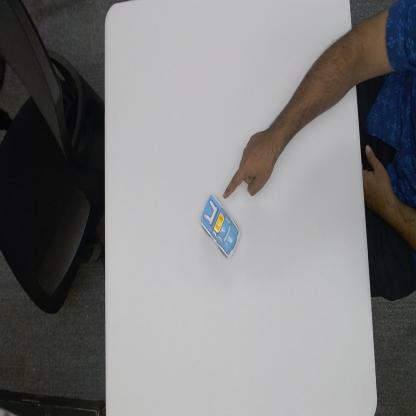Arm: (274, 30, 354, 146)
Car: (200, 194, 241, 260)
Hand: (223, 127, 277, 202)
